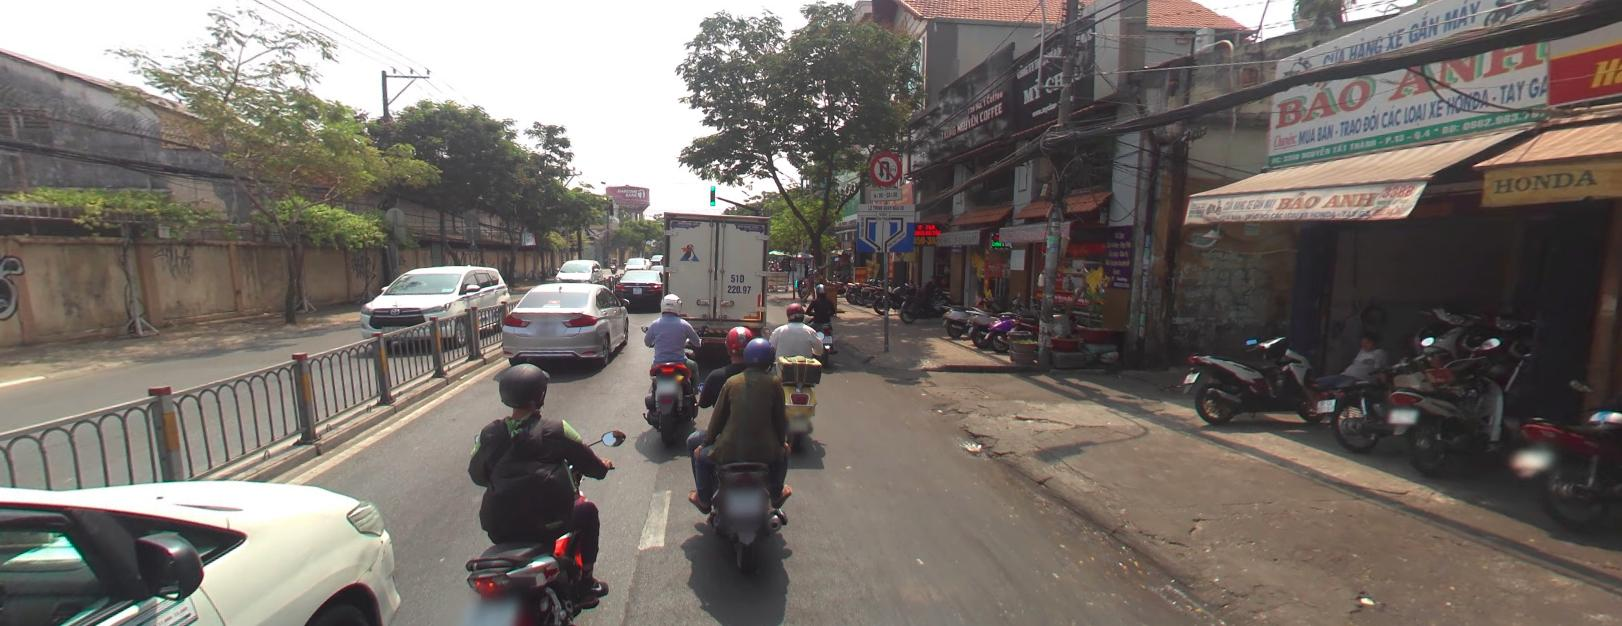Cam re: (869, 151, 900, 184)
